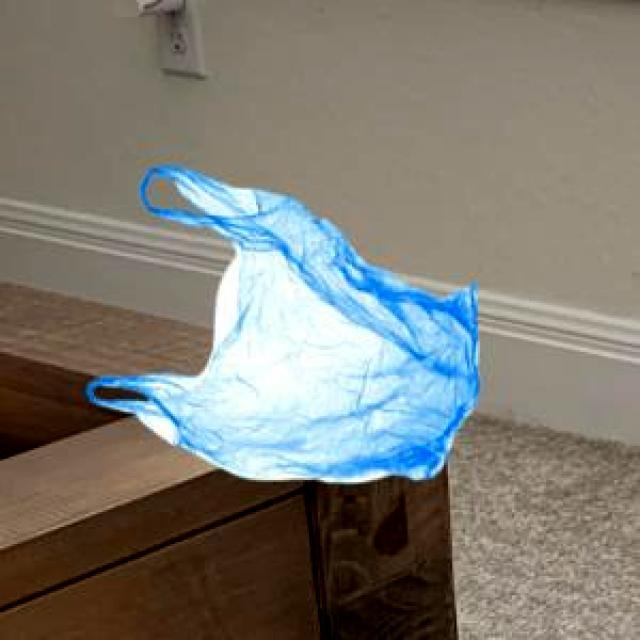Plastic_Bag: (84, 165, 477, 479)
